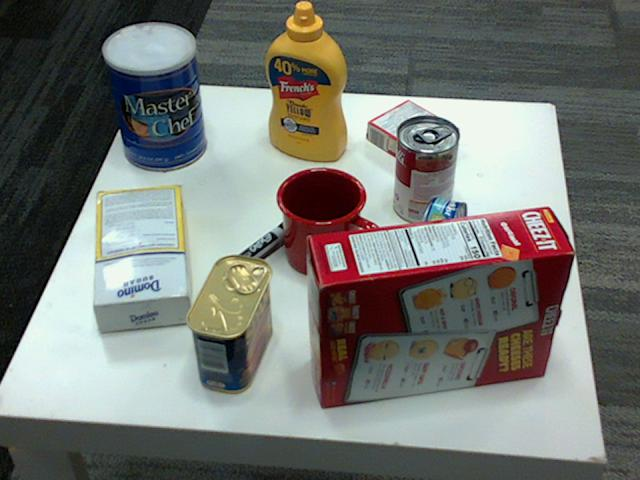cracker_box: (308, 204, 572, 405)
gelatin_box: (369, 99, 460, 167)
large_marker: (212, 216, 298, 290)
master_chef_can: (101, 23, 205, 171)
mug: (275, 164, 381, 273)
mustard_bottle: (265, 2, 346, 161)
potted_meat_can: (187, 254, 273, 393)
sugar_box: (92, 182, 191, 328)
tomato_soup_can: (392, 116, 458, 224)
tuna_fish_can: (413, 196, 466, 282)
